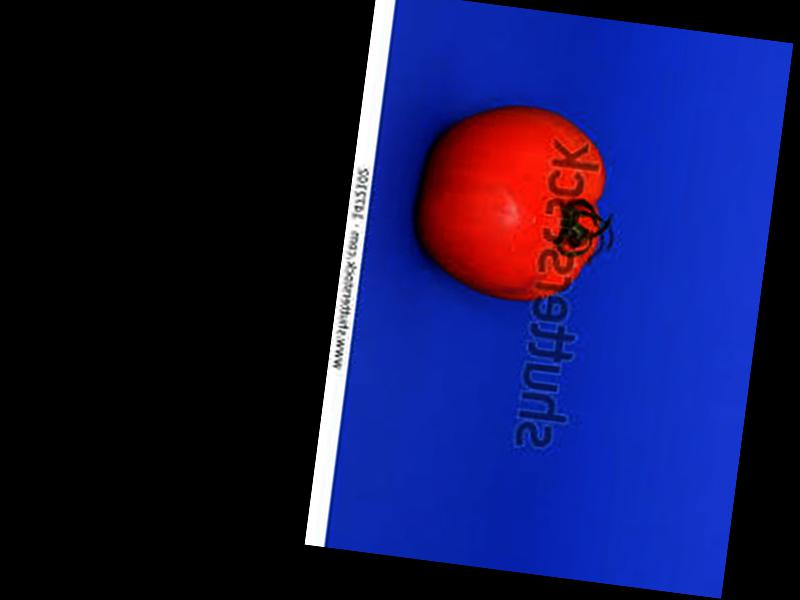Tomato: (410, 91, 617, 307)
